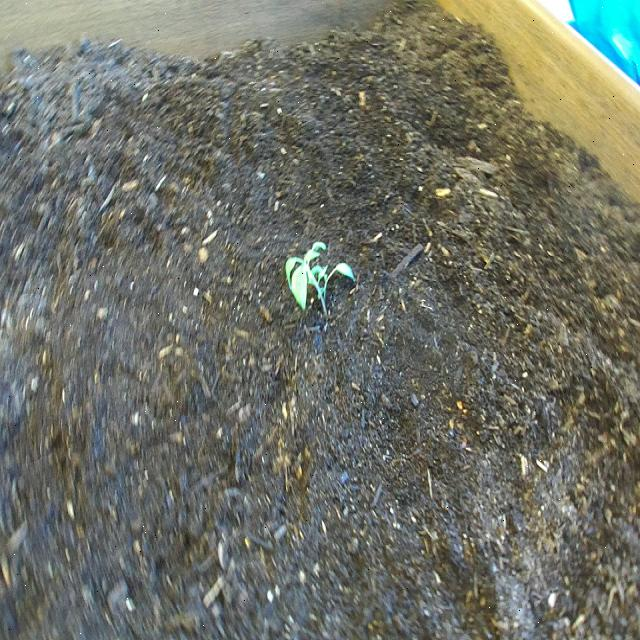Healthy: (282, 234, 360, 325)
